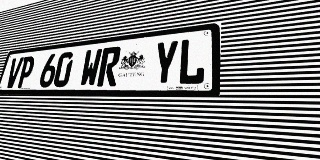0: (52, 51, 75, 87)
6: (38, 53, 60, 88)
L: (177, 37, 206, 85)
P: (16, 56, 36, 88)
R: (97, 46, 122, 87)
V: (4, 57, 24, 88)
W: (79, 48, 103, 87)
Y: (151, 40, 179, 86)
